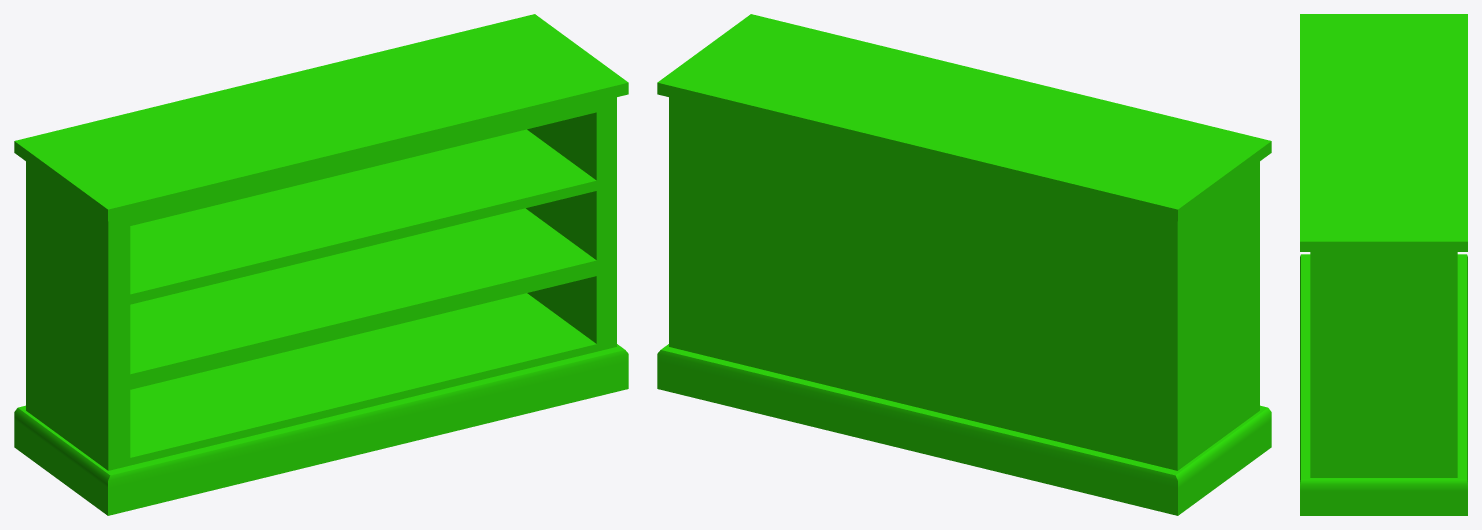
Rendered from Cupboard_06_Lod0.fbx.
The picture shows the model from 3 angles, left to right: view 1: azimuth 30°, elevation 25°; view 2: azimuth 150°, elevation 25°; view 3: azimuth 270°, elevation 25°; orthographic projection. The views are drawn at different scales.
Visible parts, largest first — view 1: Cupboard_06_Lod0; view 2: Cupboard_06_Lod0; view 3: Cupboard_06_Lod0.
Boxes of the visible parts, x1=… form: Cupboard_06_Lod0: x1=14, y1=14, x2=628, y2=515; Cupboard_06_Lod0: x1=657, y1=14, x2=1271, y2=515; Cupboard_06_Lod0: x1=1300, y1=14, x2=1467, y2=515.
Size of the model in its own units: 179 by 101 by 55.95.
